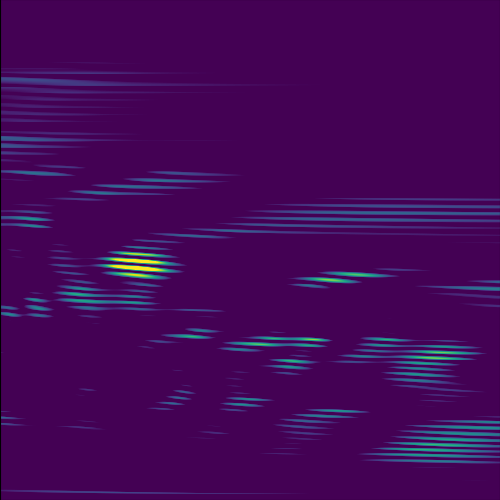semblance: (95, 249, 184, 282)
